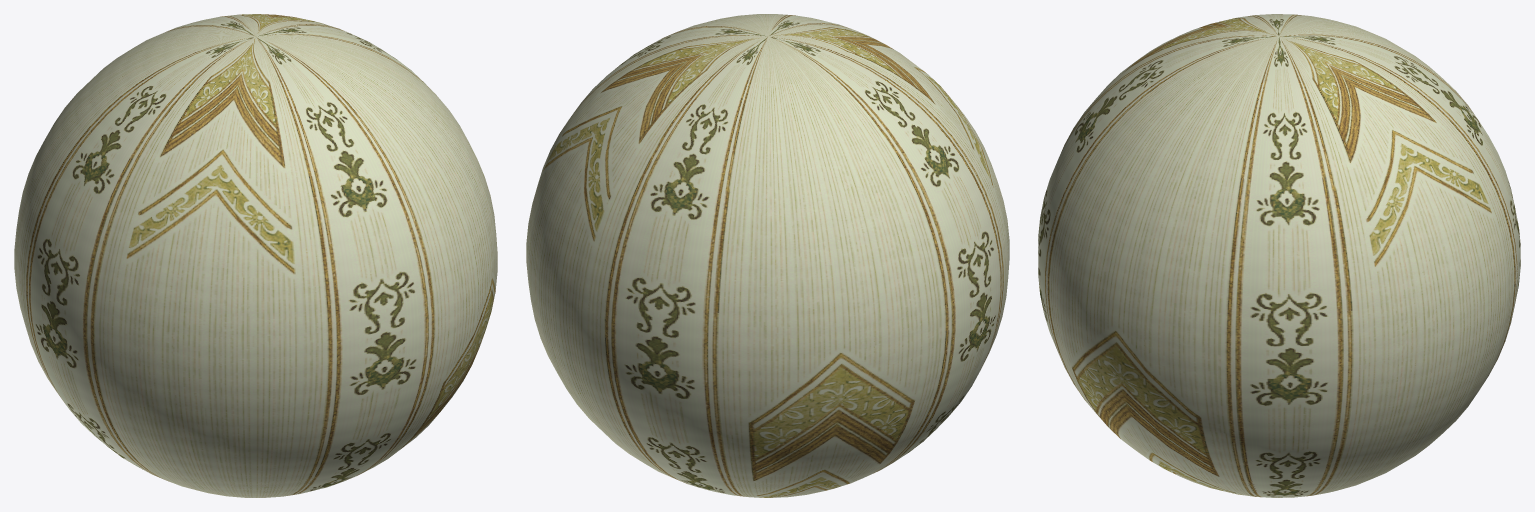
Rendered from original_backrooms_wallpaper_pbr.glb.
3 views of the same model, side by side, from view 1: azimuth 30°, elevation 25°; view 2: azimuth 150°, elevation 25°; view 3: azimuth 270°, elevation 25° (orthographic).
Parts seen in each view (by area): view 1: Object_2; view 2: Object_2; view 3: Object_2.
Boxes of the visible parts, <box> form: Object_2: <box>14,14,497,497</box>; Object_2: <box>526,14,1009,497</box>; Object_2: <box>1038,14,1520,497</box>.
Bounding box in the file's own units: 1.85 × 1.85 × 1.85.
Materials: 1 (1 with a texture image).
